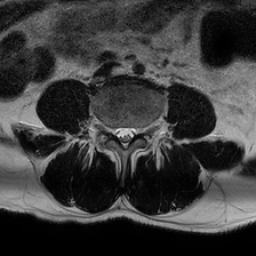CCS_normal: (121, 118, 129, 156)
LFS_normal: (137, 118, 146, 141)
LLS_normal: (129, 118, 137, 148)
RFS_stenosis: (105, 117, 113, 141)
RLS_normal: (113, 120, 121, 146)
